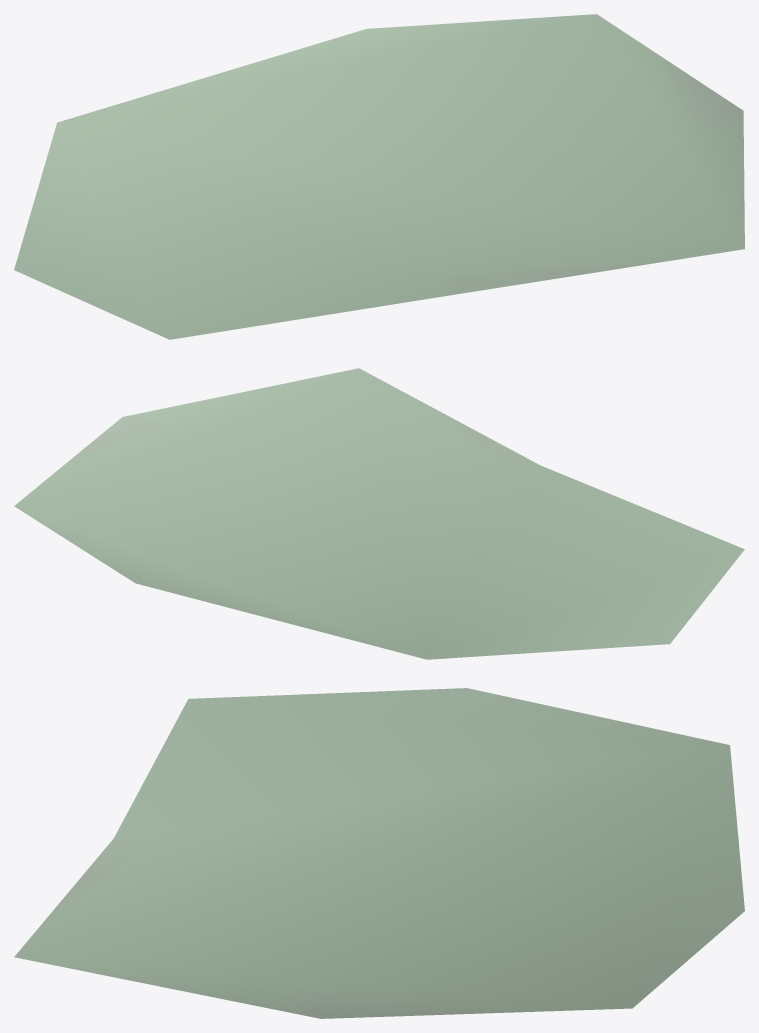
The model's file is TROLLHOLE02_HOLECAP29.fbx.
The picture shows the model from 3 angles, top to bottom: view 1: azimuth 30°, elevation 25°; view 2: azimuth 150°, elevation 25°; view 3: azimuth 270°, elevation 25°; orthographic projection. The views are drawn at different scales.
Visible parts, largest first — view 1: TROLLHOLE02_HOLECAP29; view 2: TROLLHOLE02_HOLECAP29; view 3: TROLLHOLE02_HOLECAP29.
Part boxes in pixels (x1=…): TROLLHOLE02_HOLECAP29: x1=14, y1=14, x2=744, y2=339; TROLLHOLE02_HOLECAP29: x1=14, y1=368, x2=744, y2=659; TROLLHOLE02_HOLECAP29: x1=14, y1=688, x2=744, y2=1018.
Size of the model in its own units: 23026 by 1475 by 18699.
Materials: 1 (1 with a texture image).
